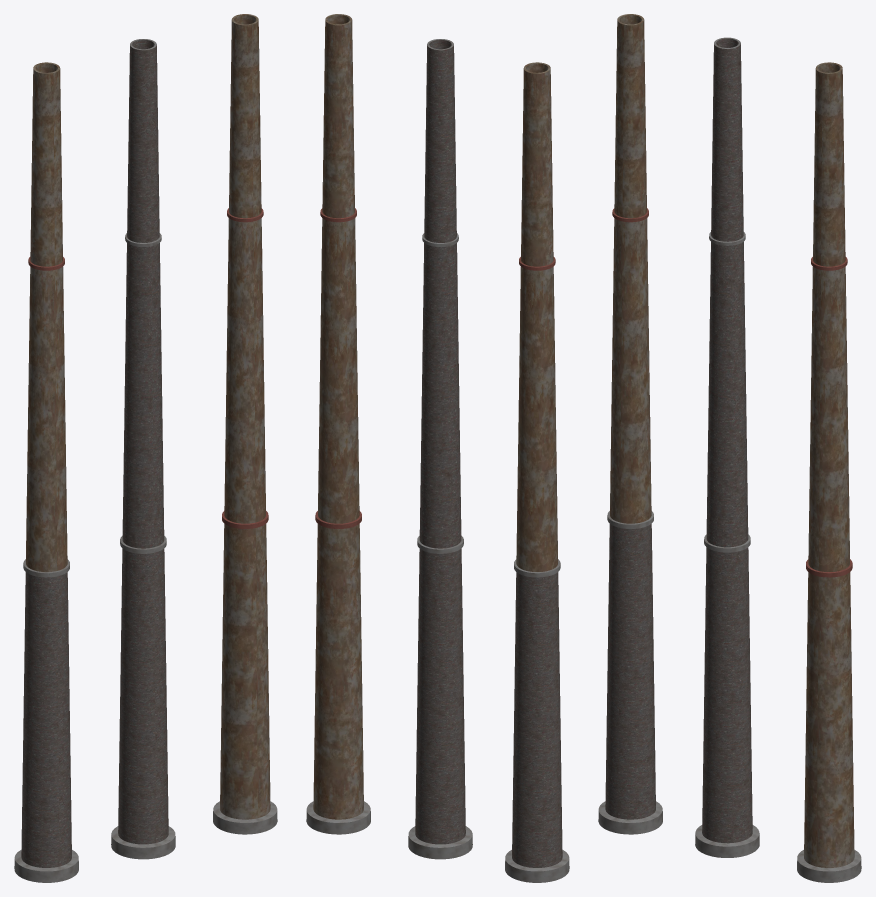
The model's file is industrial_smoke_stacks.glb.
3 renders of one model, left to right at view 1: azimuth 30°, elevation 25°; view 2: azimuth 150°, elevation 25°; view 3: azimuth 330°, elevation 25°, orthographic.
Visible parts, largest first — view 1: Cylinder.002_2, Cylinder_0, Cylinder.001_1; view 2: Cylinder.002_2, Cylinder_0, Cylinder.001_1; view 3: Cylinder.001_1, Cylinder.002_2, Cylinder_0.
Boxes of the visible parts, x1=… form: Cylinder.002_2: x1=213, y1=14, x2=277, y2=834; Cylinder_0: x1=111, y1=39, x2=175, y2=859; Cylinder.001_1: x1=14, y1=62, x2=78, y2=882; Cylinder.002_2: x1=306, y1=14, x2=370, y2=834; Cylinder_0: x1=408, y1=39, x2=472, y2=859; Cylinder.001_1: x1=505, y1=62, x2=569, y2=882; Cylinder.001_1: x1=598, y1=14, x2=662, y2=834; Cylinder.002_2: x1=797, y1=62, x2=861, y2=882; Cylinder_0: x1=695, y1=37, x2=759, y2=857.
Size of the model in its own units: 11.51 by 34.61 by 2.53.
1 material, 1 textured.
